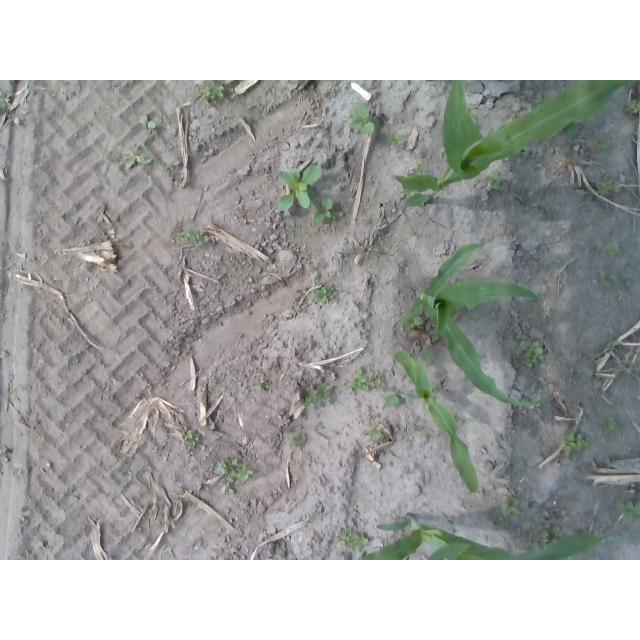Maize: (396, 81, 640, 208), (410, 240, 555, 412), (391, 349, 479, 492), (358, 513, 615, 560)
Weeds: (275, 164, 323, 212), (216, 457, 253, 495), (343, 102, 379, 134), (111, 145, 153, 170), (346, 368, 384, 393), (516, 340, 546, 369), (338, 527, 368, 555), (530, 526, 563, 551), (558, 432, 590, 457), (196, 82, 227, 107), (614, 500, 640, 525), (312, 198, 336, 223), (383, 385, 409, 408), (312, 280, 334, 305), (499, 493, 521, 517), (595, 178, 621, 198), (485, 169, 506, 192), (178, 227, 203, 245), (363, 420, 383, 441), (561, 118, 581, 139), (181, 429, 200, 451), (313, 383, 332, 405), (601, 417, 621, 436), (387, 133, 405, 152), (400, 314, 425, 327), (137, 114, 157, 130), (298, 395, 315, 413), (405, 162, 425, 177), (598, 268, 615, 284), (624, 98, 640, 115), (289, 432, 307, 446), (607, 241, 622, 257), (254, 379, 271, 393), (414, 425, 429, 439), (421, 350, 437, 363), (598, 137, 611, 151), (512, 458, 525, 471), (604, 340, 620, 350), (0, 98, 12, 111), (471, 314, 482, 324), (366, 244, 379, 252), (22, 508, 31, 516), (634, 359, 640, 370), (0, 448, 8, 456), (314, 424, 322, 432), (298, 307, 307, 313)
